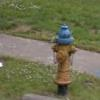Hydrant: (41, 17, 82, 97)
